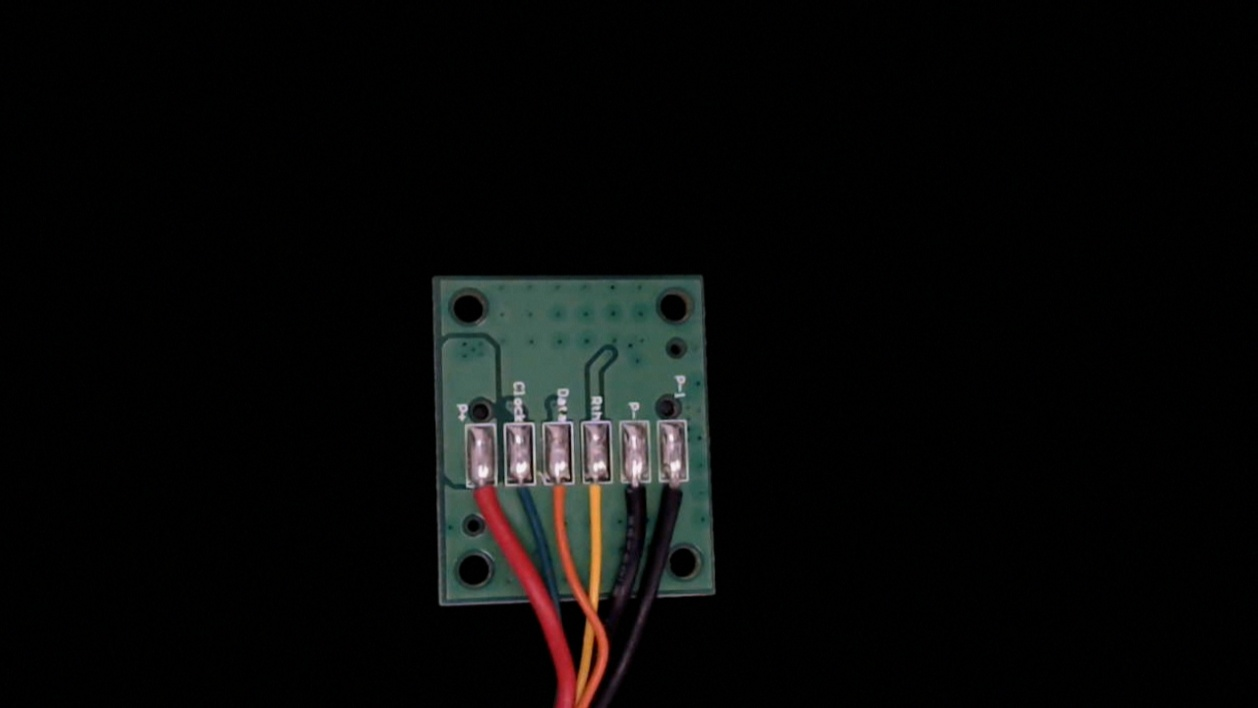Black: (620, 466, 654, 538)
Black1: (660, 466, 694, 533)
Green: (505, 466, 537, 526)
Orange: (544, 466, 576, 538)
Red: (464, 469, 498, 539)
Yellow: (579, 467, 614, 540)
